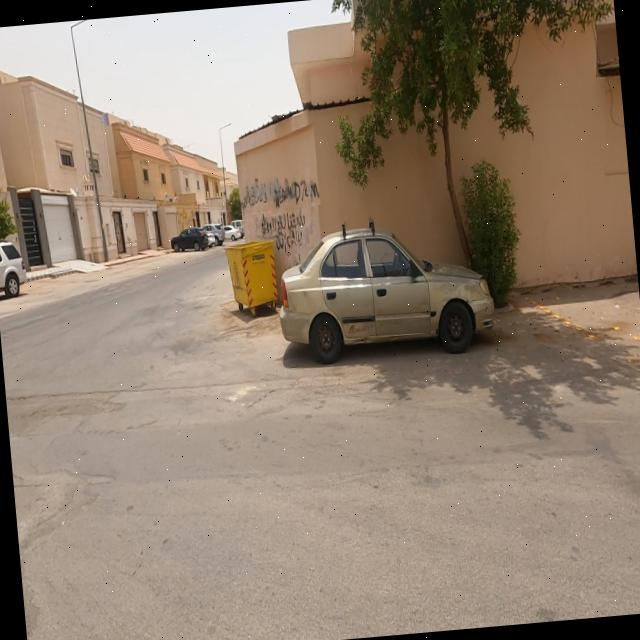Graffiti: (273, 175, 321, 211), (258, 211, 307, 238), (239, 178, 270, 215), (278, 233, 307, 253)
